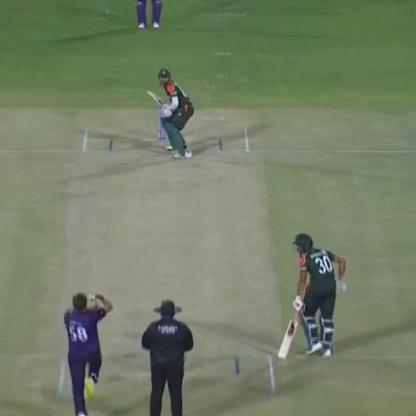ball: (84, 290, 98, 306)
bat: (275, 306, 302, 360), (144, 87, 171, 116)
pitch: (42, 120, 290, 404)
